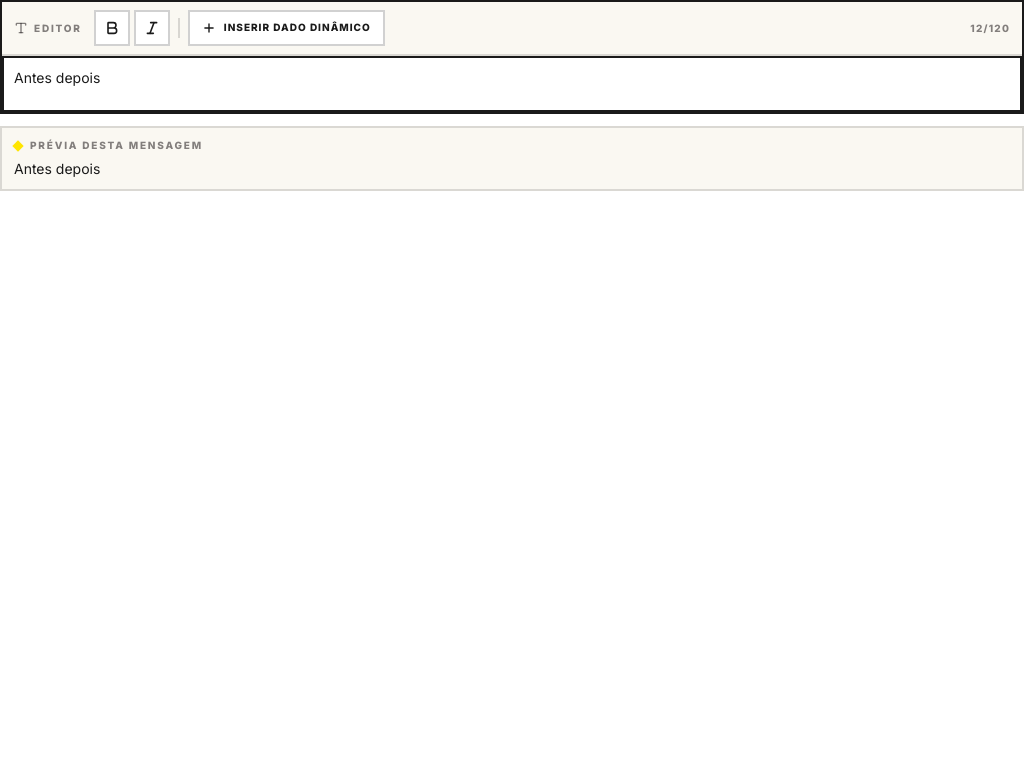
Test: RichTextEditor › insere o token na posição do cursor após o modal assumir o foco
Check: the field named "Mensagem de teste" reads "Antes depois", box [2, 56, 1022, 112]
Click the button "Inserir dado dinâmico" at (286,28), box [188, 10, 385, 46]
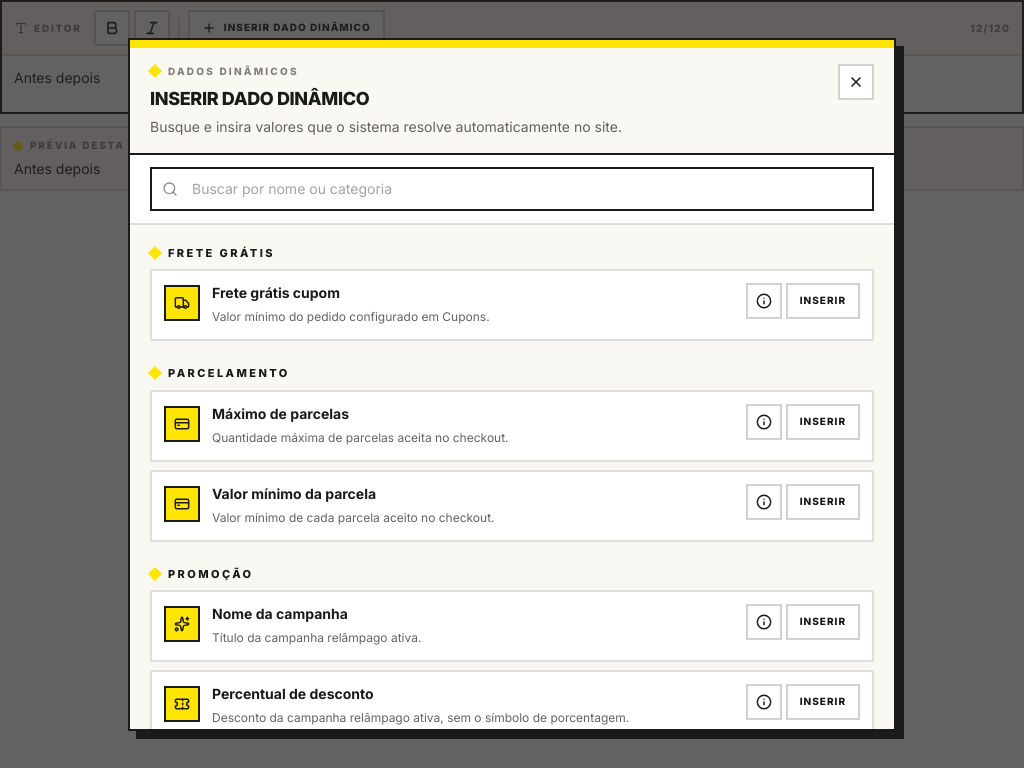
Click the button "Inserir" in the row of "Frete grátis cupom" at (823,301), box [786, 283, 860, 319]
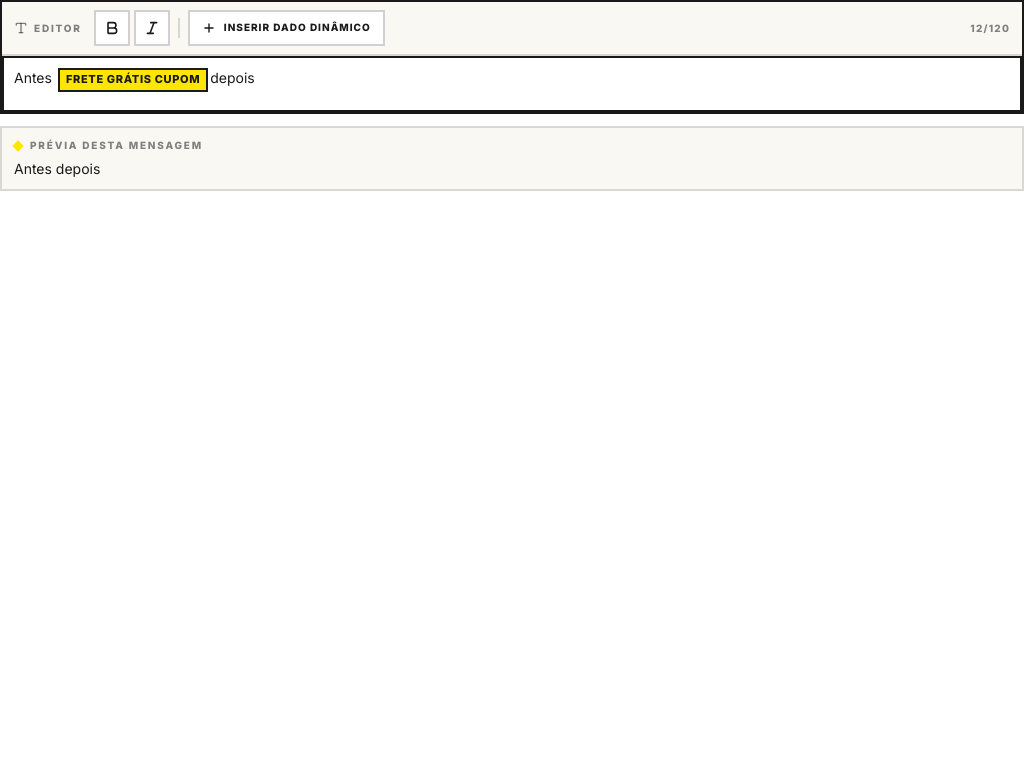
Check: the field named "Mensagem de teste" reads "Antes Frete grátis cupom depois", box [2, 56, 1022, 112]
